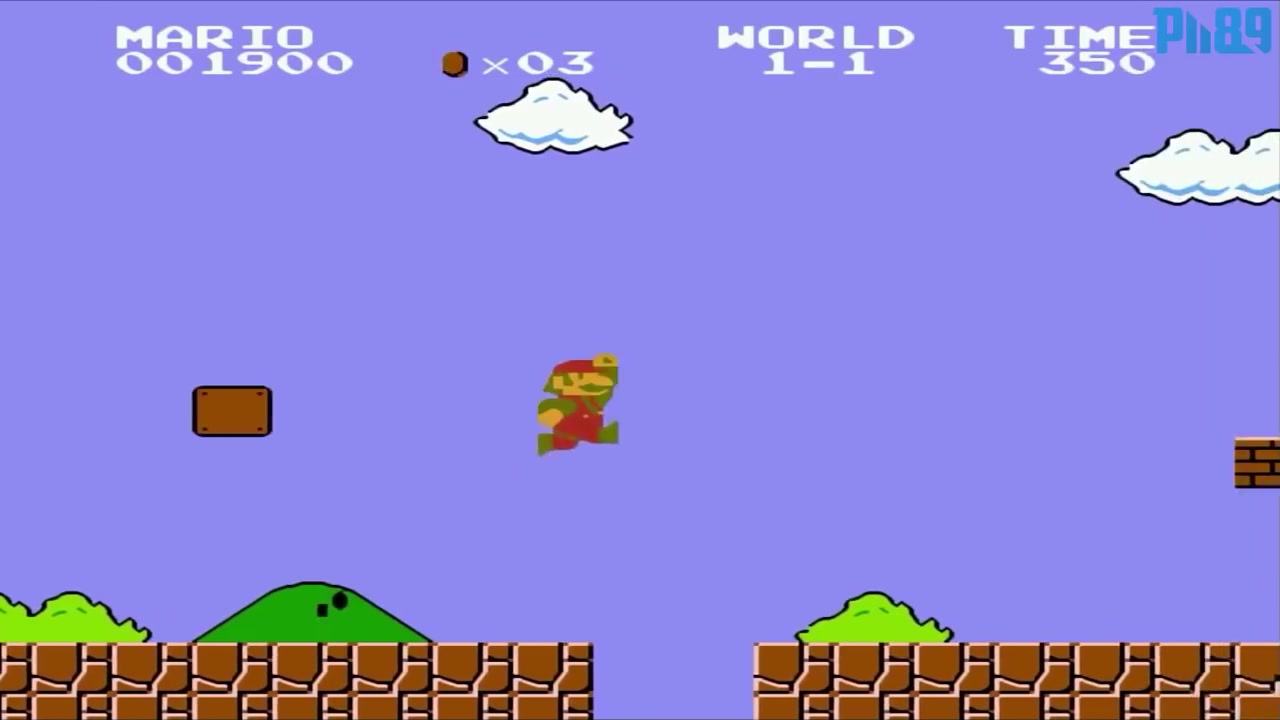mario: (532, 351, 625, 463)
